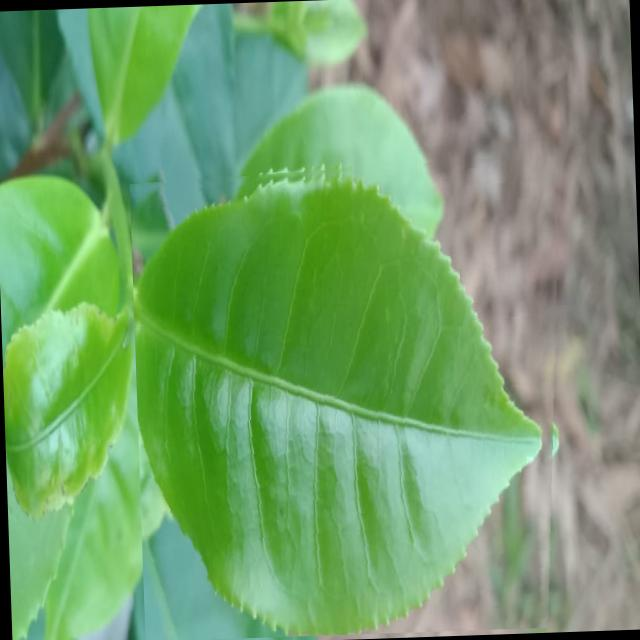Category B(2-4 days): (127, 152, 574, 640)
